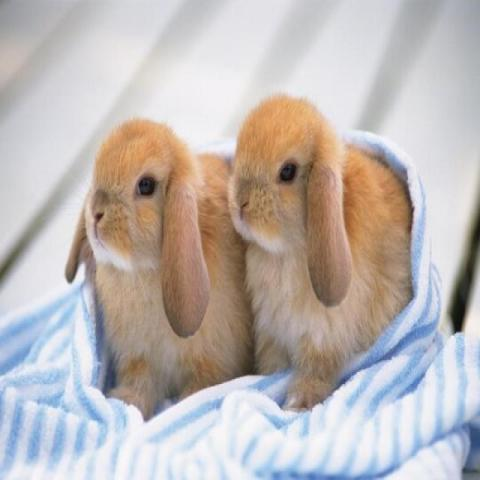small_animal: (225, 92, 415, 413), (62, 115, 253, 420)
